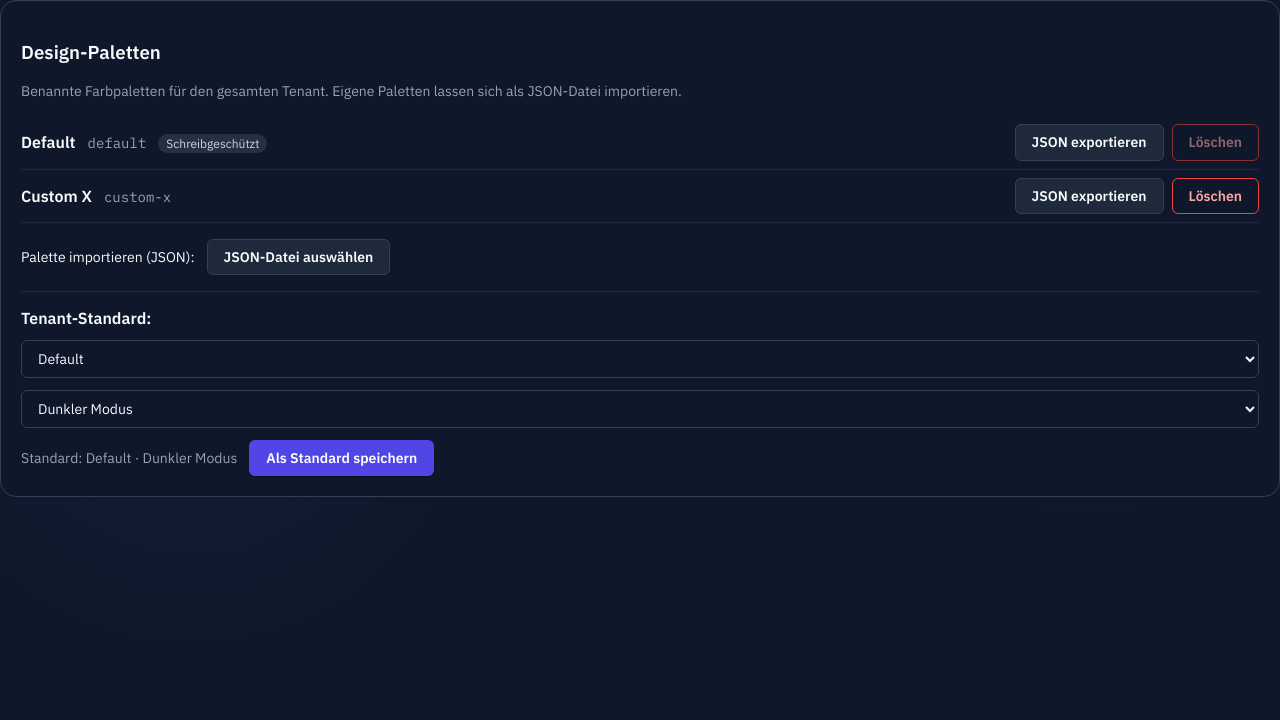
Scenario: ThemeManagementSection › tenant default › saves a new tenant default when changed
Expected: the list item with test id "theme-row-default" is shown, [21,116,1259,170]
Select "Custom X" in the dropdown with test id "tenant-default-palette-select" at {"x": 640, "y": 359}, box [21,340,1259,378]
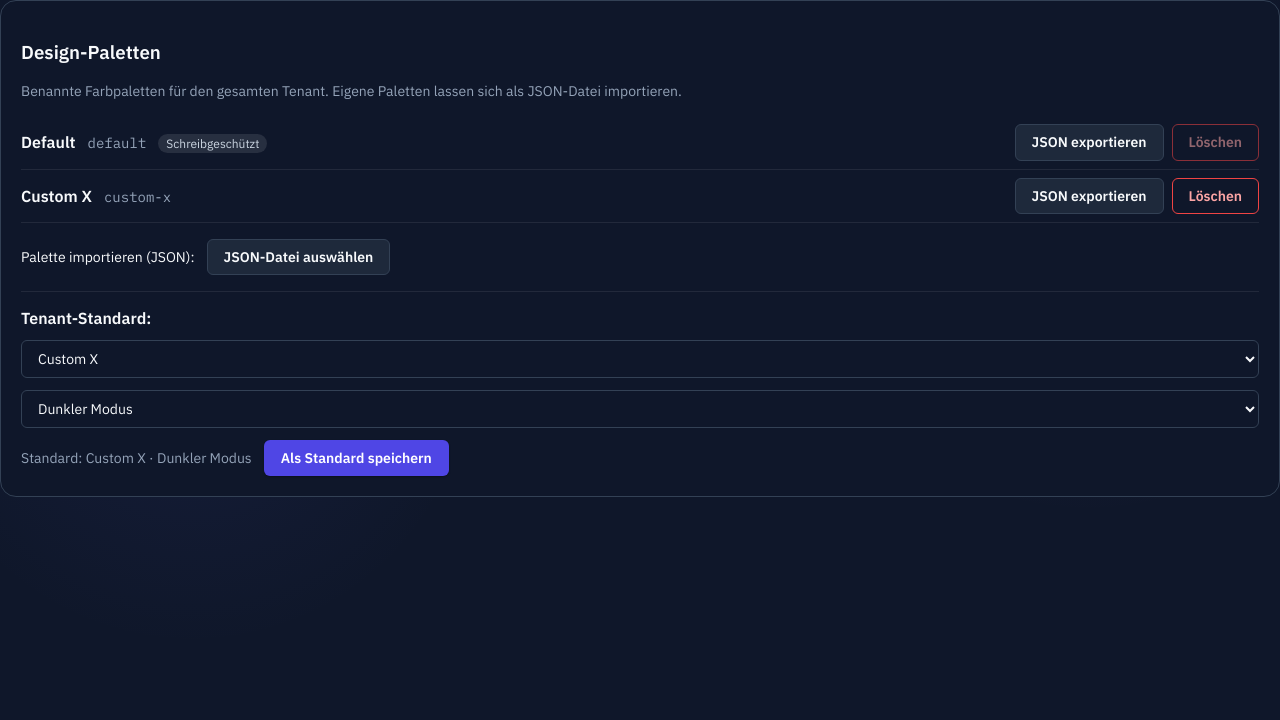
Select "Heller Modus" in the dropdown with test id "tenant-default-mode-select" at {"x": 640, "y": 409}, box [21,390,1259,428]
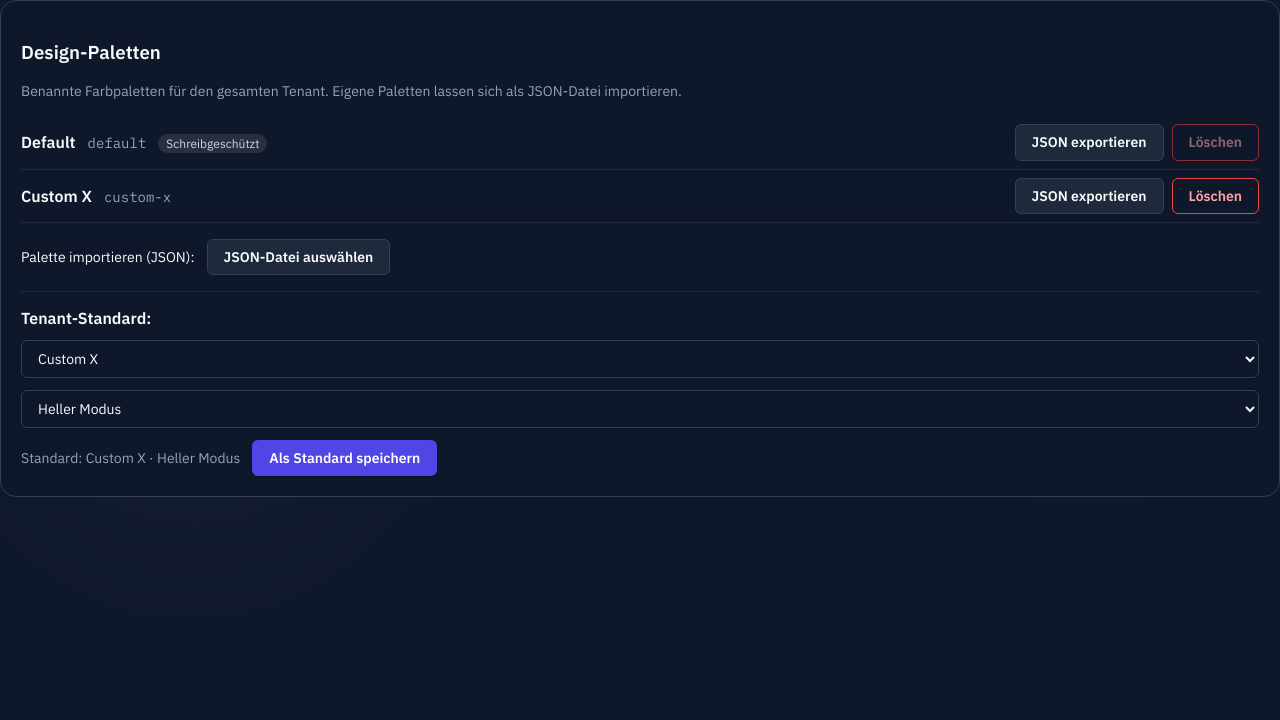
Click the button with test id "tenant-default-save" at {"x": 345, "y": 458}, box [252,440,437,476]
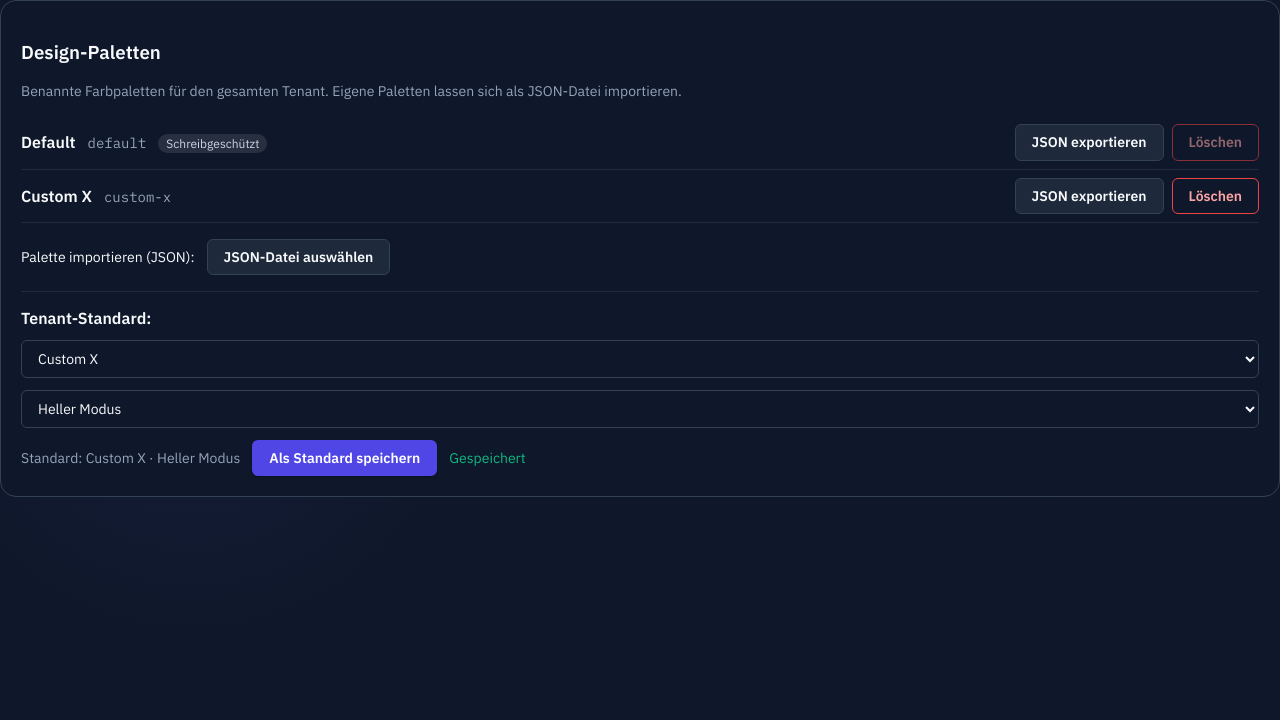
Result: the text "Gespeichert" is shown at [449,449,526,467]
